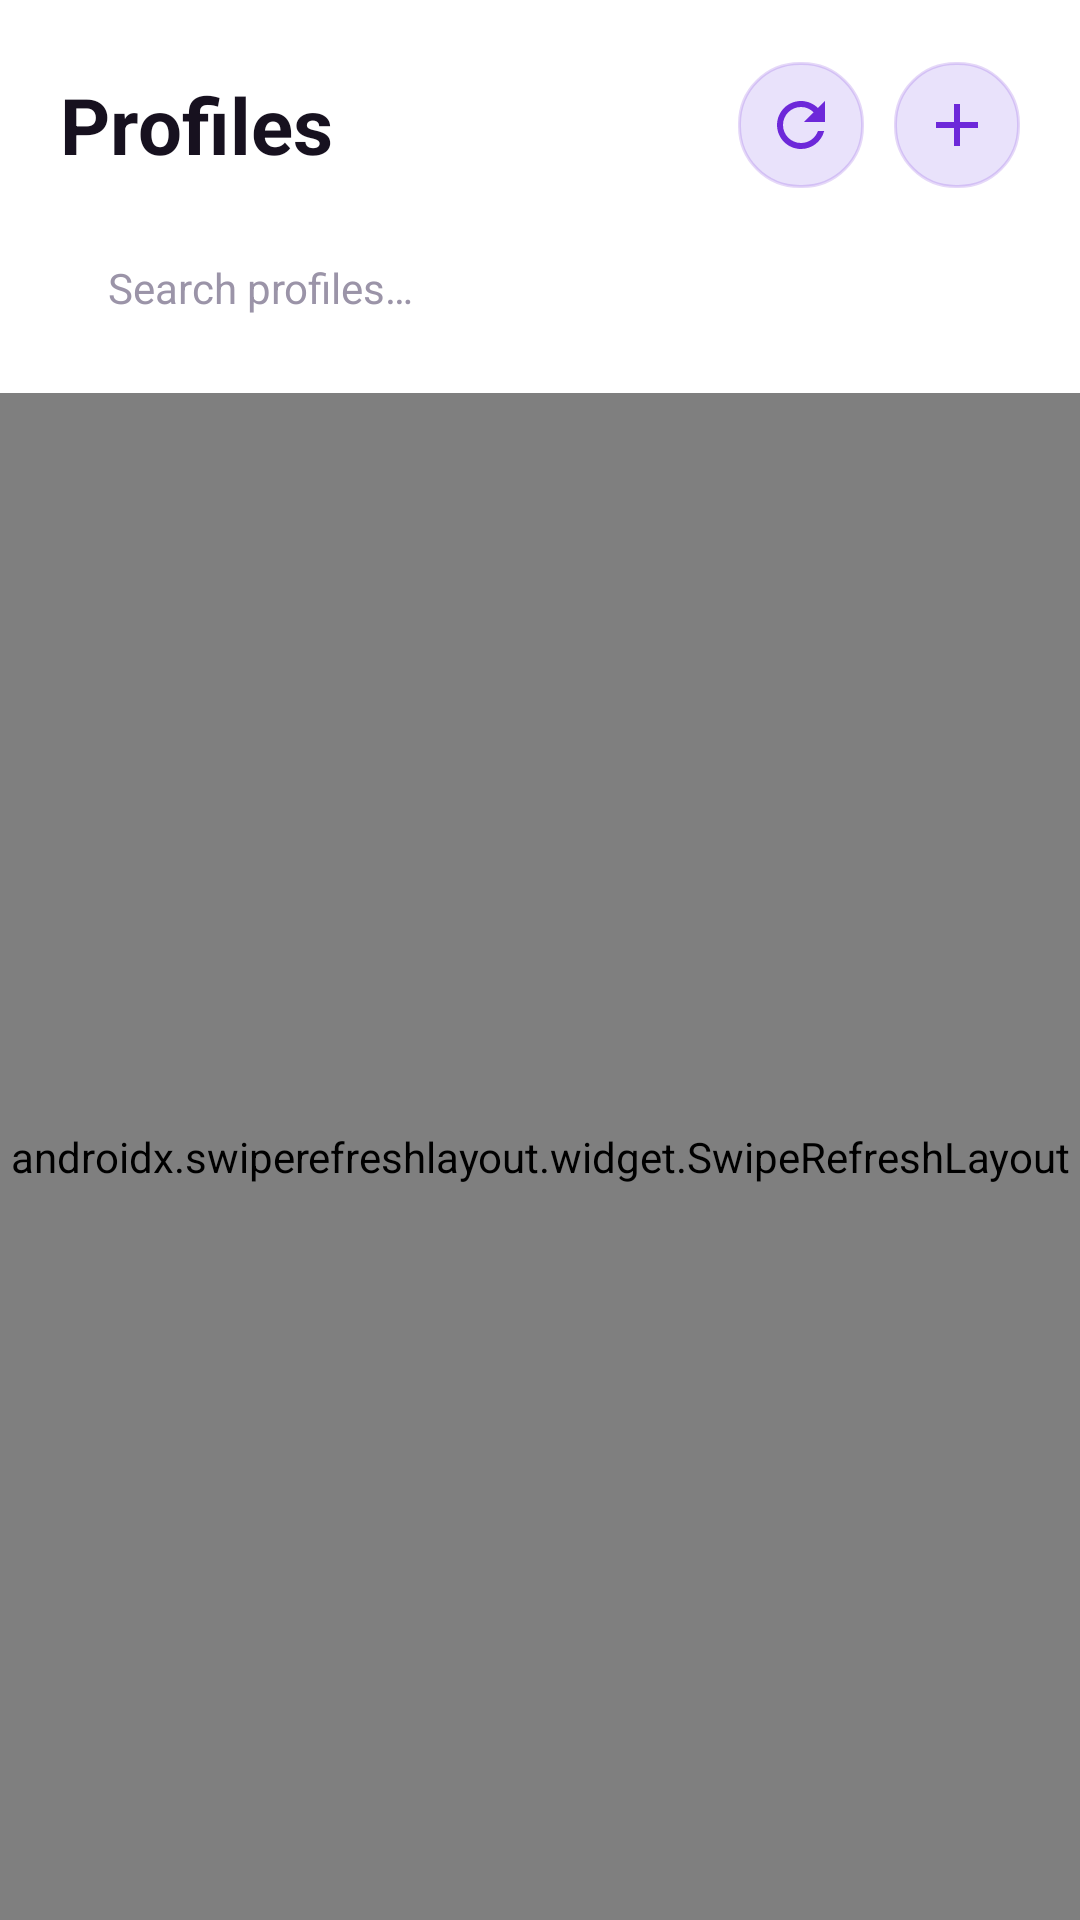

Point at icon controls on the screen. Image size 1080x1920, points as (x,y).
New profile: (957,125)
